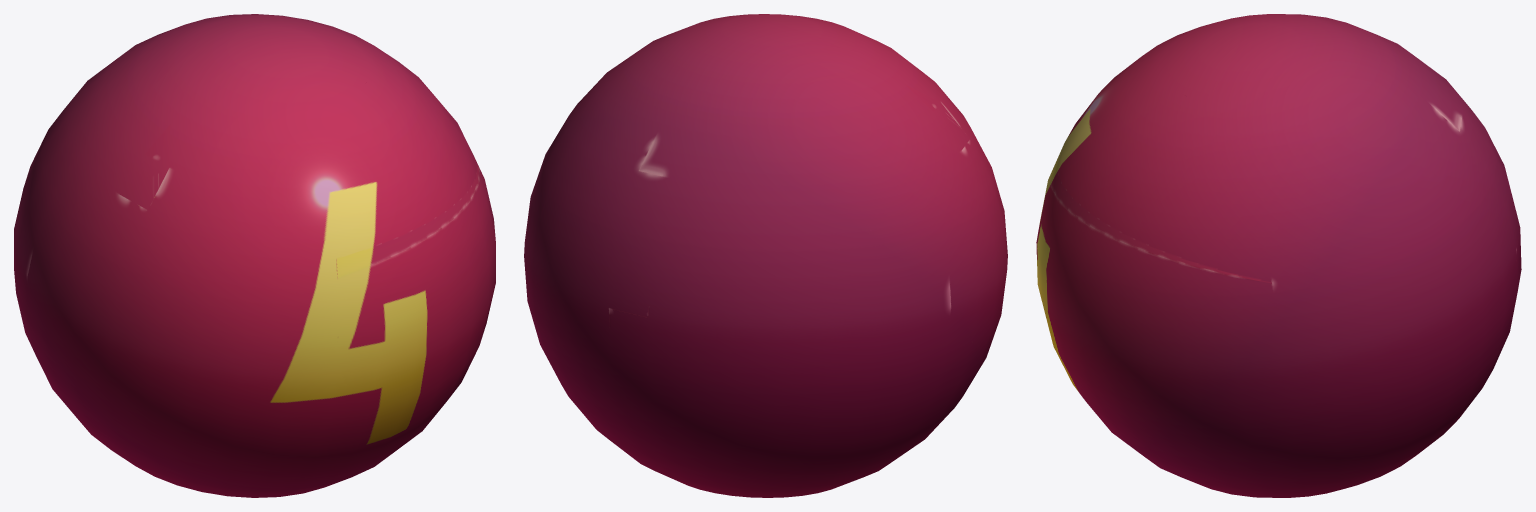
The model's file is Enemy 4.fbx.
3 renders of one model, left to right at view 1: azimuth 30°, elevation 25°; view 2: azimuth 150°, elevation 25°; view 3: azimuth 270°, elevation 25°, orthographic.
Visible parts, largest first — view 1: Body 1.003; view 2: Body 1.003; view 3: Body 1.003.
Boxes of the visible parts, x1,y1,x2,y2 form: Body 1.003: [14, 14, 495, 497]; Body 1.003: [524, 14, 1007, 497]; Body 1.003: [1036, 14, 1521, 497].
Bounding box in the file's own units: 474 × 474 × 474.
Materials: 1 (1 with a texture image).
